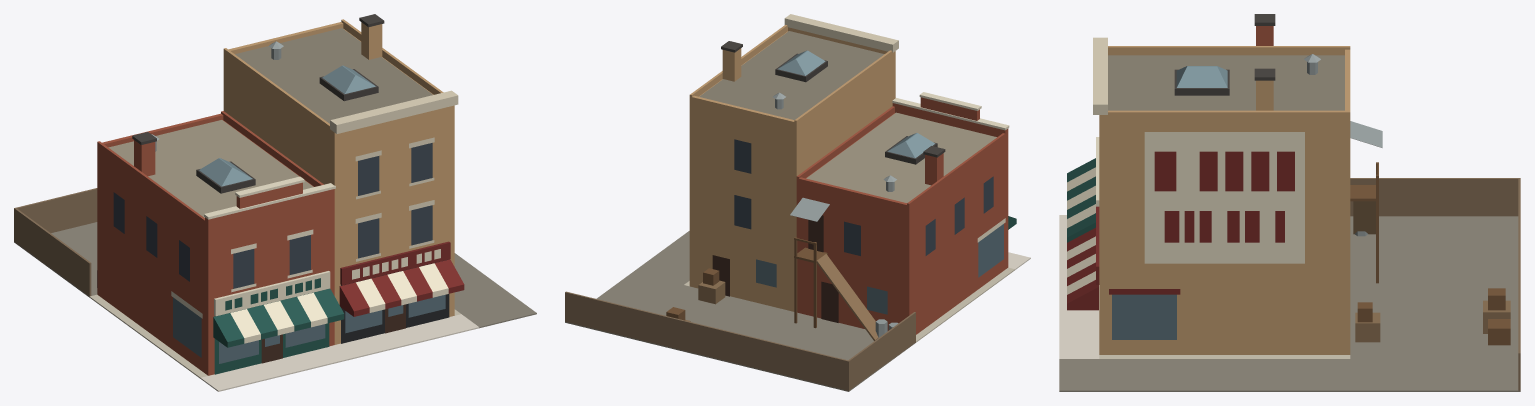
Rendered from highstreet.glb.
3 renders of one model, left to right at view 1: azimuth 30°, elevation 25°; view 2: azimuth 150°, elevation 25°; view 3: azimuth 270°, elevation 25°, orthographic. The views are drawn at different scales.
Parts seen in each view (by area): view 1: highstreet; view 2: highstreet; view 3: highstreet.
Part boxes in pixels (bbox=[...]): highstreet: bbox=[14, 14, 536, 391]; highstreet: bbox=[565, 14, 1030, 391]; highstreet: bbox=[1059, 14, 1520, 391].
Bounding box in the file's own units: 18 × 13.3 × 20.
